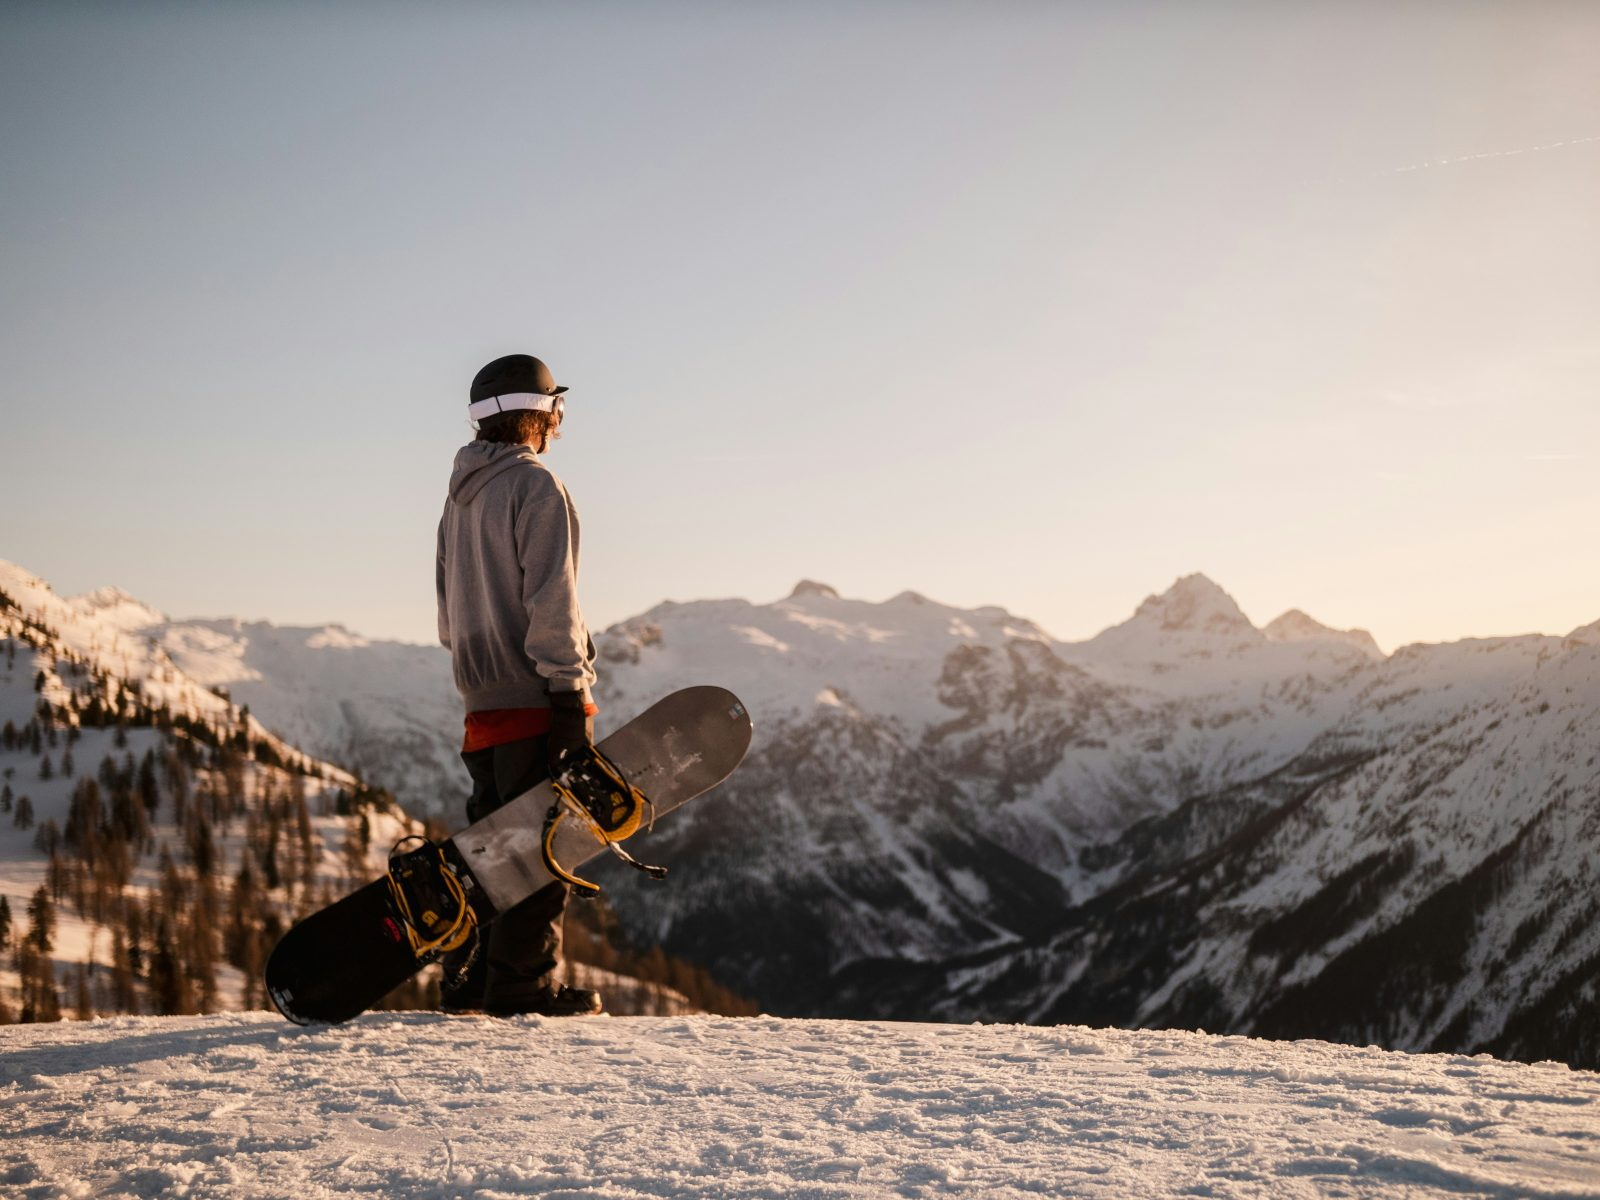snowboarder: (231, 330, 770, 1035)
